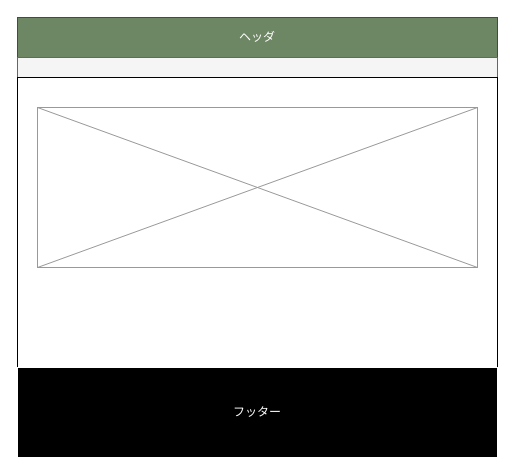
Some shapes in this 515 by 475 pixel diagram are drawn without their labels. The shapes that lost their labels are listed below. From the top down, each one's centre as x and y in pixels, then its label:
pixel 257 67: ヘッダ2
pixel 257 187: 特集
